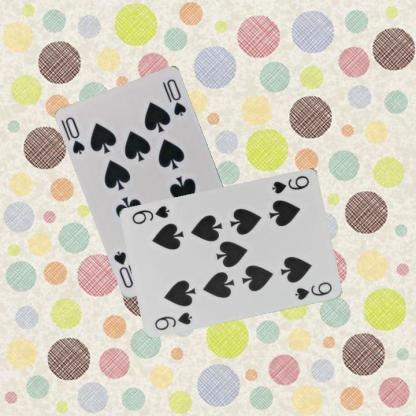10s: (63, 114, 87, 156)
9s: (269, 172, 311, 194), (152, 309, 194, 331)
